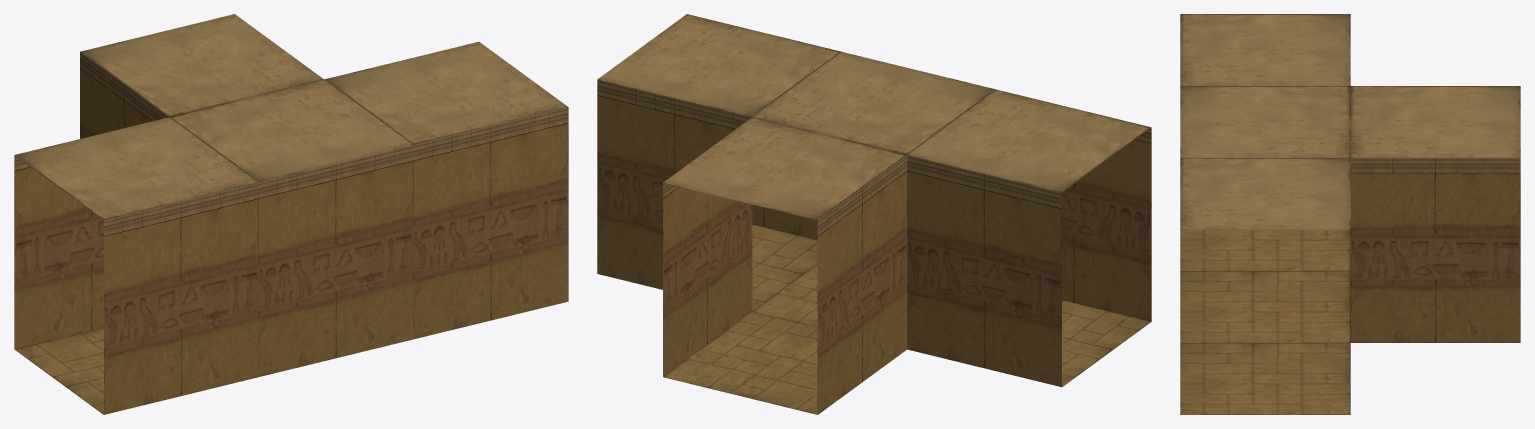
Rendered from Tile_Junction.FBX.
3 renders of one model, left to right at view 1: azimuth 30°, elevation 25°; view 2: azimuth 150°, elevation 25°; view 3: azimuth 270°, elevation 25°, orthographic. The views are drawn at different scales.
Parts seen in each view (by area): view 1: m_Cross002; view 2: m_Cross002; view 3: m_Cross002.
Part boxes in pixels (x1,y1,x2,y2): m_Cross002: [14, 14, 568, 414]; m_Cross002: [597, 14, 1151, 414]; m_Cross002: [1180, 14, 1520, 414].
Size of the model in its own units: 300 by 200 by 120.
1 material, 1 textured.
